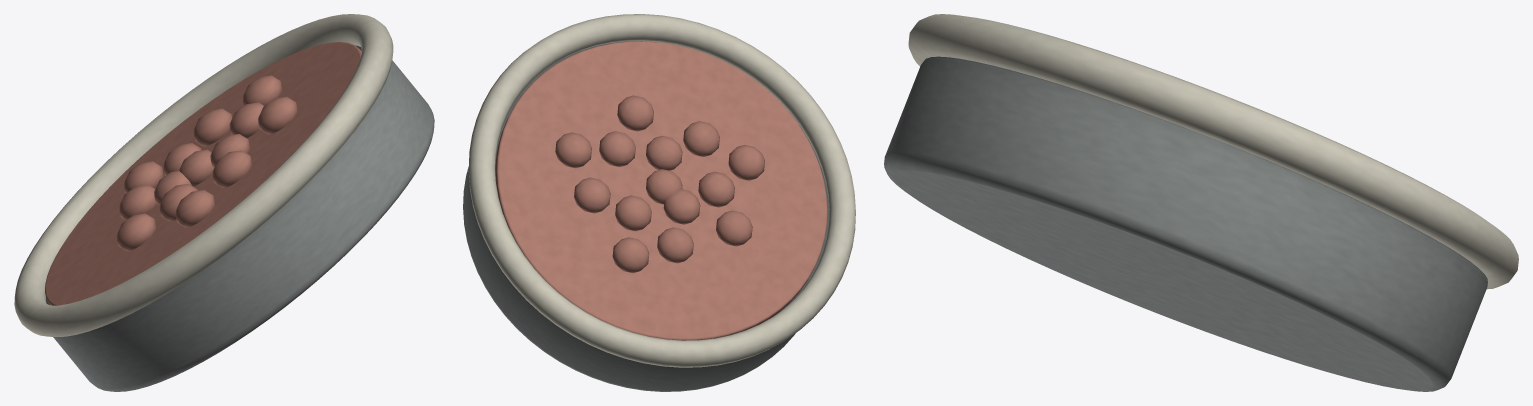
3 views of the same model, side by side, from view 1: azimuth 30°, elevation 25°; view 2: azimuth 150°, elevation 25°; view 3: azimuth 270°, elevation 25° (orthographic). The views are drawn at different scales.
Visible parts, largest first — view 1: Thick-walled sample vessel; view 2: Thick-walled sample vessel; view 3: Thick-walled sample vessel.
Boxes of the visible parts, bbox=[...] form: Thick-walled sample vessel: bbox=[14, 14, 434, 391]; Thick-walled sample vessel: bbox=[463, 14, 855, 391]; Thick-walled sample vessel: bbox=[884, 14, 1518, 391].
Bounding box in the file's own units: 0.9707 × 0.7871 × 1.
Materials: 1 (1 with a texture image).
